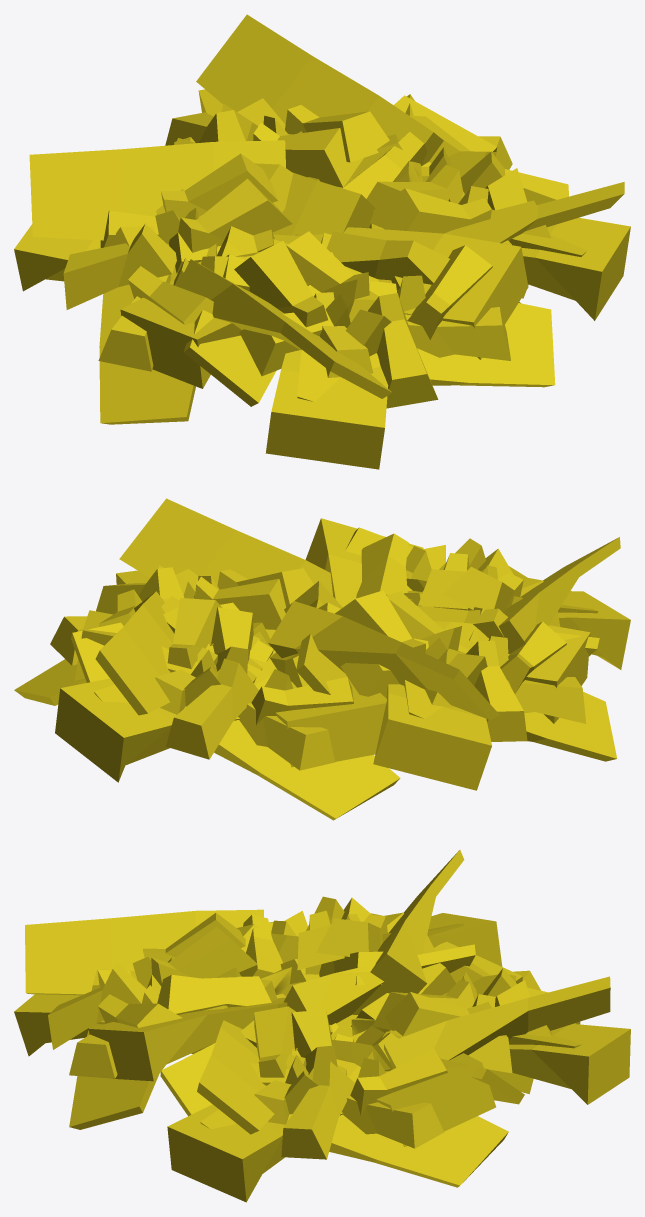
File: choppedDandilions.fbx
3 renders of one model, top to bottom at view 1: azimuth 30°, elevation 25°; view 2: azimuth 150°, elevation 25°; view 3: azimuth 270°, elevation 25°, orthographic. The views are drawn at different scales.
Visible parts, largest first — view 1: polySurface61; view 2: polySurface61; view 3: polySurface61.
Part boxes in pixels (x1,y1,x2,y2): polySurface61: [14, 14, 630, 469]; polySurface61: [14, 498, 630, 820]; polySurface61: [14, 850, 630, 1202].
Bounding box in the file's own units: 2.12 × 0.6962 × 2.33.
